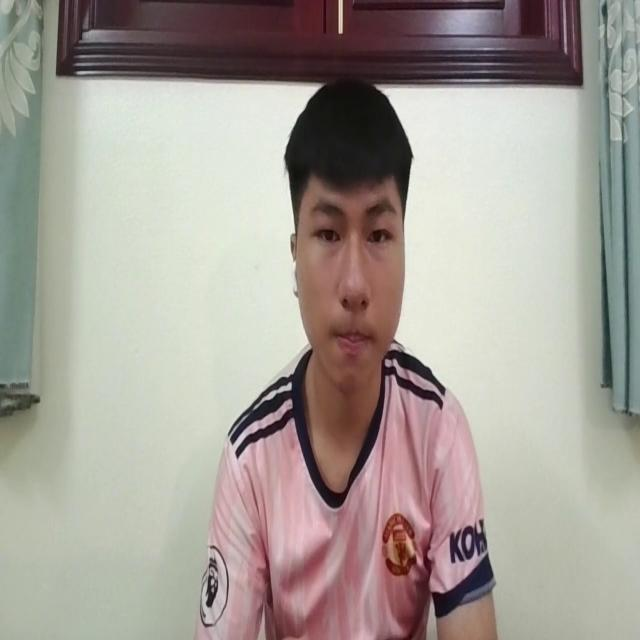student: (208, 64, 494, 640)
